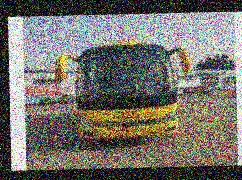bus: (56, 39, 188, 141)
